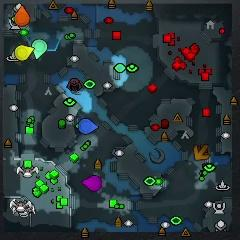p1: (80, 118, 97, 134)
p2: (33, 39, 47, 60)
p3: (82, 176, 101, 190)
p4: (15, 45, 33, 61)
p5: (14, 7, 30, 25)
x5: (194, 142, 210, 161)
